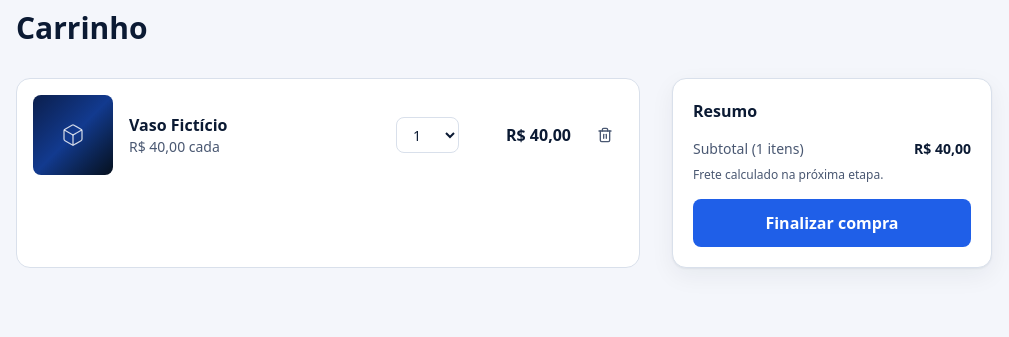
Test: CartPage (cliente logado) › altera a quantidade e remove itens pela API e reflete o novo total
The width and height of the screenshot is (1009, 337).
Select "3" in the dropdown named "Quantidade de Vaso Fictício" at (428, 135), box [396,117,459,153]
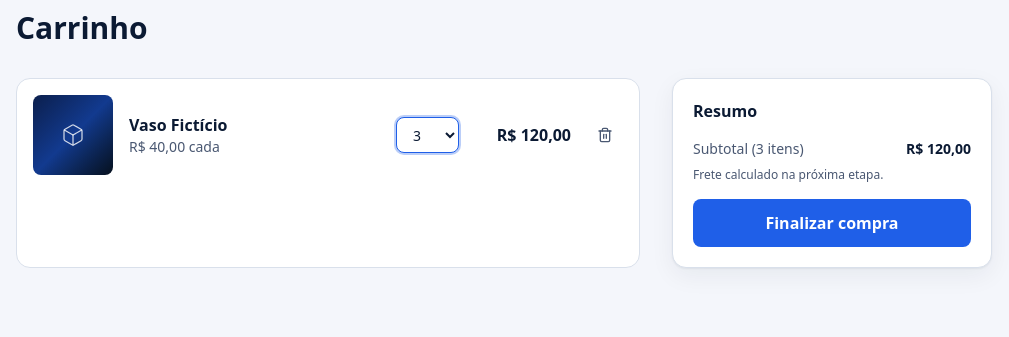
Check: the text "R$ 120,00" is shown 2 times, box [497,124,571,146]; [906,139,971,159]
Click the button named "Remover Vaso Fictício" at (605, 135), box [587,117,623,153]
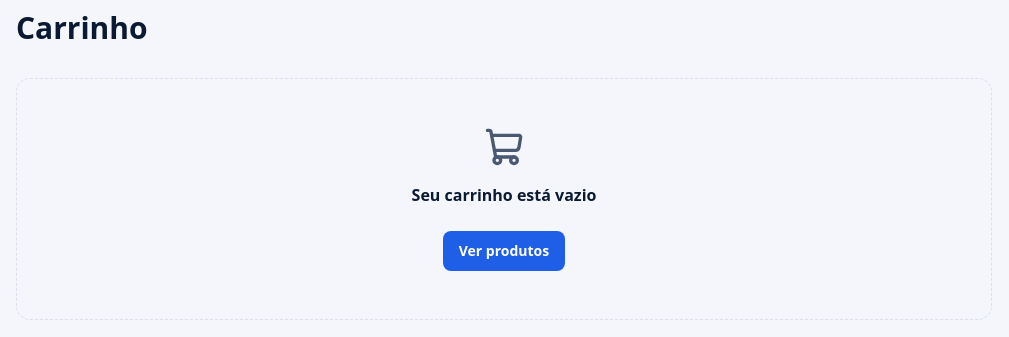
Check: the link "Vaso Fictício" is gone
